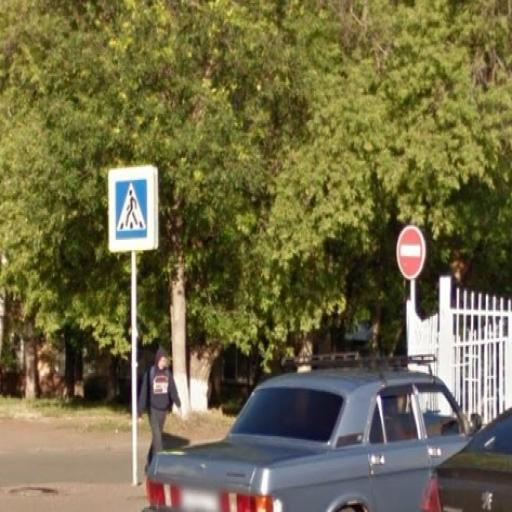traffic_sign: (107, 164, 162, 259), (395, 224, 429, 284)
